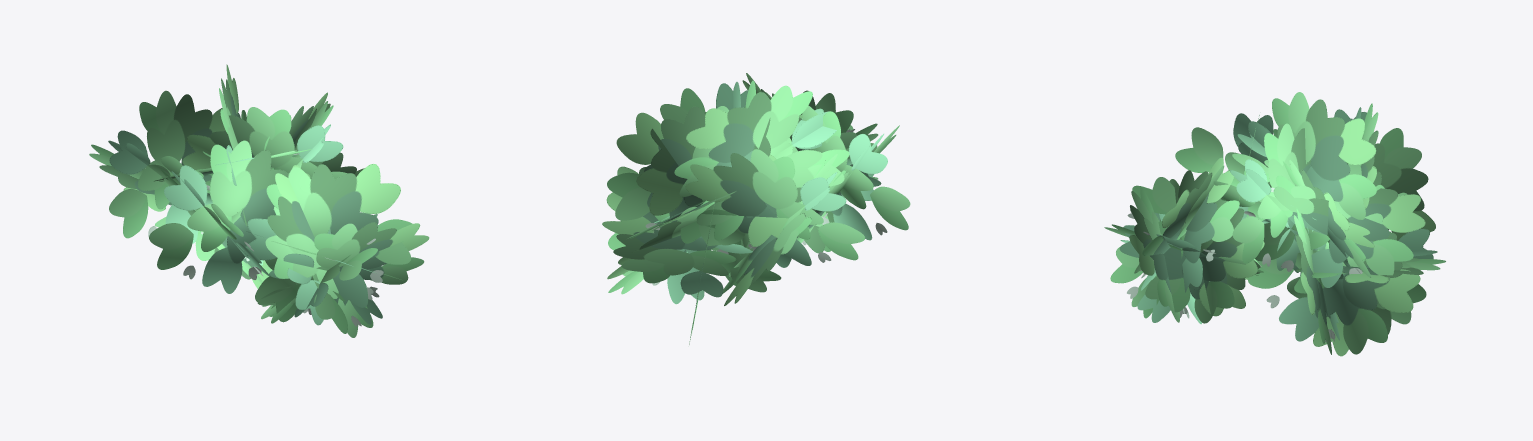
The model's file is bush_LOD2.fbx.
The picture shows the model from 3 angles, left to right: view 1: azimuth 30°, elevation 25°; view 2: azimuth 150°, elevation 25°; view 3: azimuth 270°, elevation 25°; orthographic projection. The views are drawn at different scales.
Parts seen in each view (by area): view 1: BushLeaf.003; view 2: BushLeaf.003; view 3: BushLeaf.003.
Boxes of the visible parts, x1,y1,x2,y2 form: BushLeaf.003: (89, 64, 429, 337); BushLeaf.003: (602, 73, 910, 344); BushLeaf.003: (1104, 92, 1445, 356).
Size of the model in its own units: 948 by 845 by 751.
